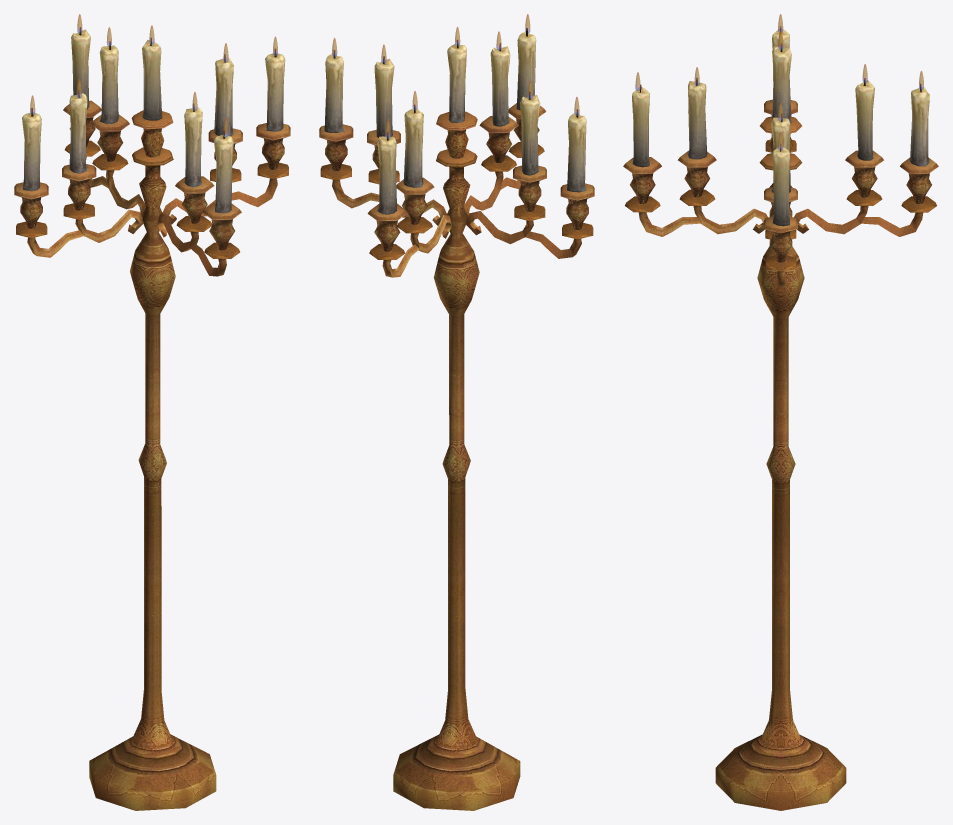
File: Candlestick04A.fbx
3 renders of one model, left to right at view 1: azimuth 30°, elevation 25°; view 2: azimuth 150°, elevation 25°; view 3: azimuth 270°, elevation 25°, orthographic.
Visible parts, largest first — view 1: Candlestick04A; view 2: Candlestick04A; view 3: Candlestick04A.
Boxes of the visible parts, box(x1,y1,x2,y2) form: Candlestick04A: box(14, 27, 290, 810); Candlestick04A: box(319, 28, 594, 810); Candlestick04A: box(623, 26, 938, 810).
Size of the model in its own units: 22.37 by 58.74 by 22.37.
Materials: 2 (2 with a texture image).
